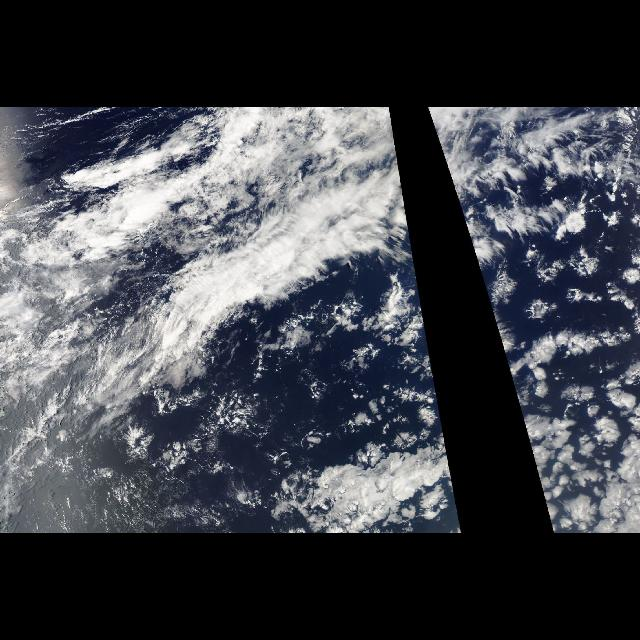Flower: (482, 205, 640, 527)
Gravel: (95, 384, 291, 526)
